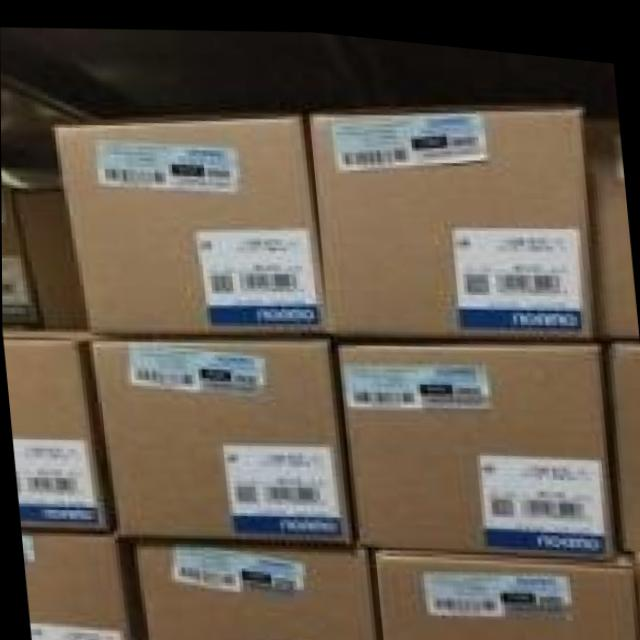box: (309, 93, 588, 326), (50, 110, 325, 330), (337, 333, 606, 546), (95, 329, 345, 536), (381, 541, 639, 640), (139, 540, 373, 640), (2, 328, 105, 529), (24, 534, 126, 640), (14, 190, 87, 327), (595, 160, 639, 324), (611, 330, 640, 537), (1, 255, 40, 325), (634, 539, 640, 638)
